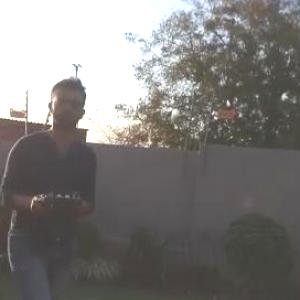follow: (0, 68, 101, 299)
